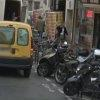Motorcycle: (42, 39, 100, 84)
